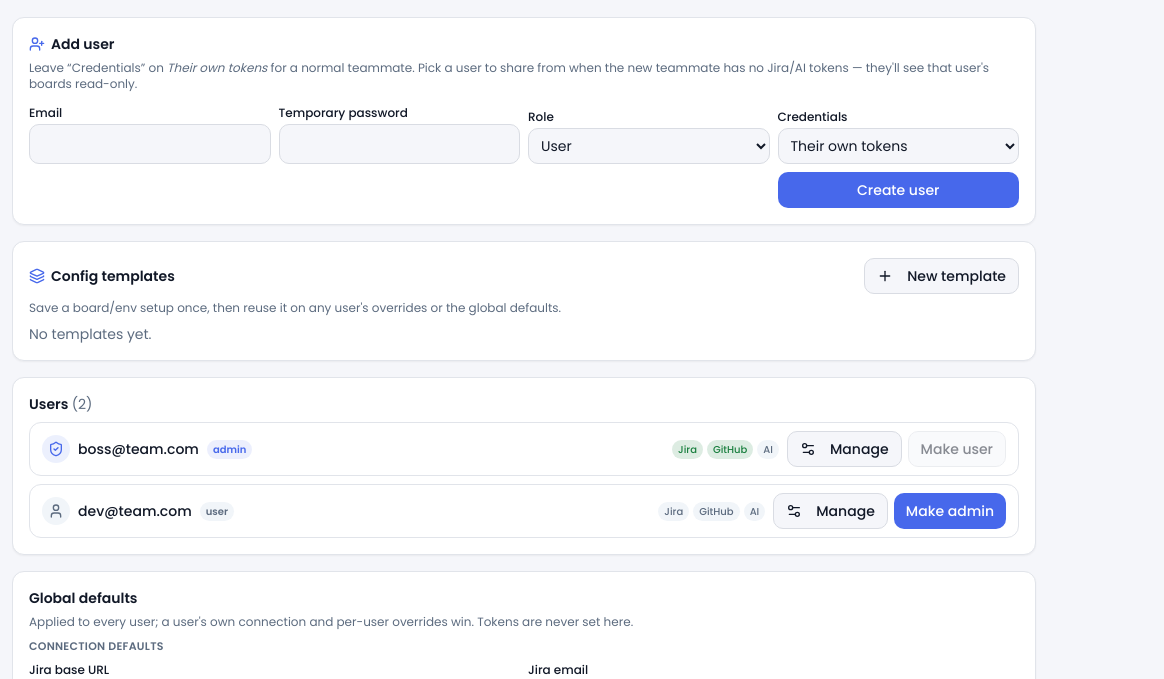
Test: Admin user setup — combined save + unsaved guard (v1.52, ADR-063) › spells out that the board ID (not the project key) switches the board
Expected: the text "dev@team.com" is shown, [78,501,192,521]
Click the button "Manage" in the row of "dev@team.com". click: (831, 511)
box: [773,493,888,529]
(page scrolled)
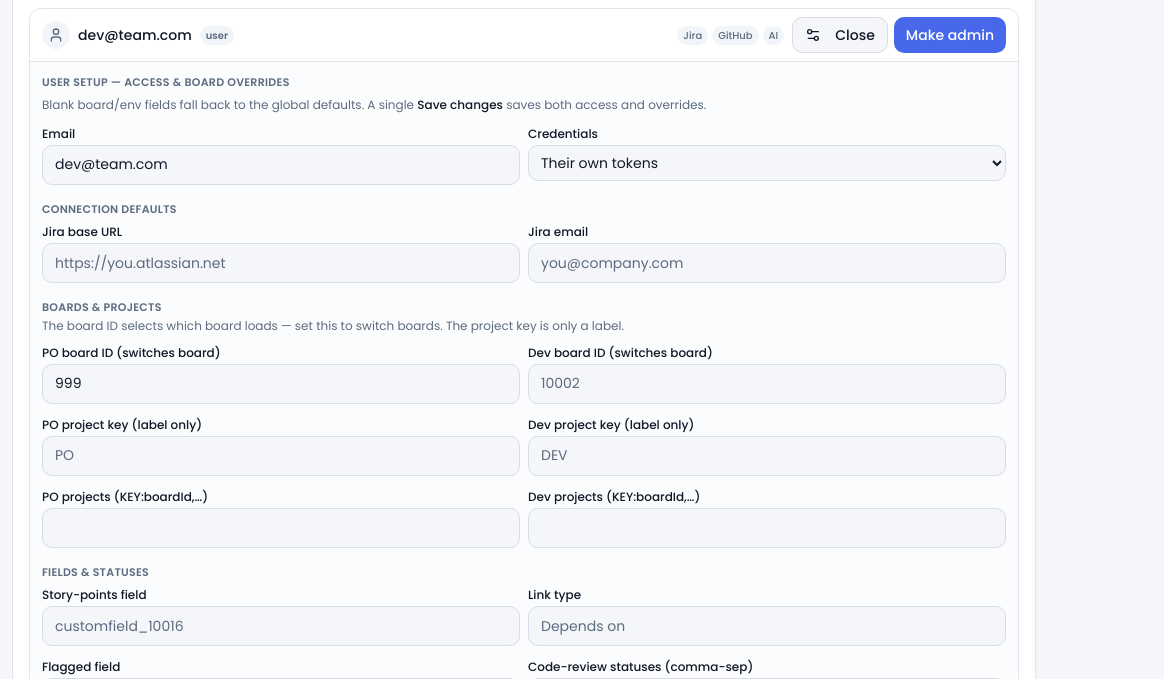
Expected: the text "The board ID selects which board loads" is shown, [42,316,624,334]
